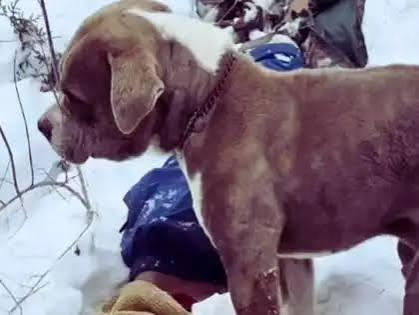adult_dog: (34, 2, 419, 311)
